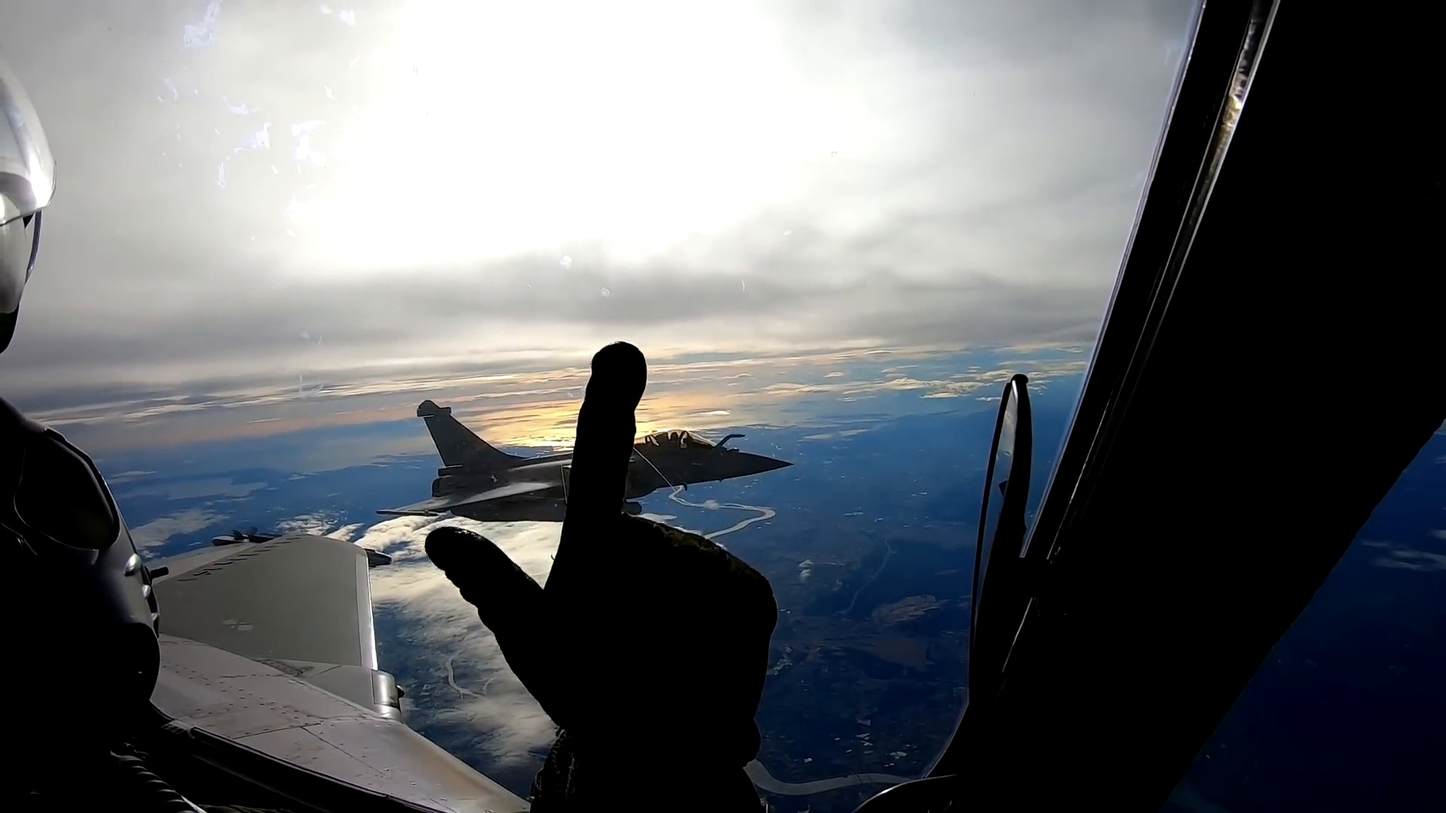Rafale: (375, 397, 795, 527)
